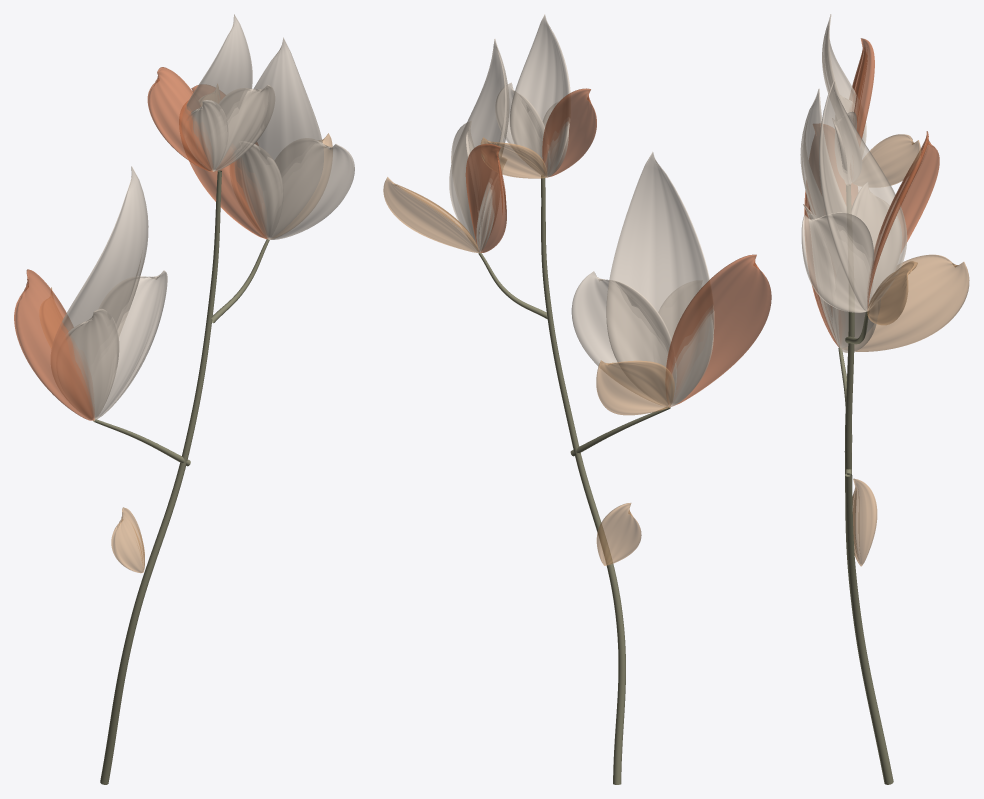
File: palash.glb
The picture shows the model from 3 angles, left to right: view 1: azimuth 30°, elevation 25°; view 2: azimuth 150°, elevation 25°; view 3: azimuth 270°, elevation 25°; orthographic projection. The views are drawn at different scales.
Parts seen in each view (by area): view 1: bloom_1_petal_0, bloom_0_petal_0, bloom_0_petal_1, bloom_1_petal_2, bloom_0_petal_2, bloom_0_petal_4, branch, bloom_2_petal_0, bloom_2_petal_1, bloom_1_petal_4, bloom_2_petal_2, bloom_1_petal_1 (+3 smaller); view 2: bloom_0_petal_0, bloom_0_petal_1, bloom_0_petal_2, bloom_2_petal_0, bloom_1_petal_0, branch, bloom_0_petal_3, bloom_1_petal_1, bloom_1_petal_3, bloom_2_petal_1, bloom_2_petal_2, bud (+4 smaller); view 3: bloom_1_petal_0, bloom_0_petal_3, bloom_1_petal_2, branch, bloom_0_petal_0, bloom_1_petal_1, bloom_2_petal_3, bloom_2_petal_0, bloom_1_petal_4, bloom_0_petal_1, bloom_1_petal_3, bloom_0_petal_2 (+4 smaller).
Part boxes in pixels (x1=…): bloom_1_petal_0: x1=233, y1=37, x2=323, y2=237; bloom_0_petal_0: x1=51, y1=166, x2=148, y2=404; bloom_0_petal_1: x1=14, y1=269, x2=94, y2=420; bloom_1_petal_2: x1=267, y1=138, x2=354, y2=239; bloom_0_petal_2: x1=93, y1=270, x2=167, y2=420; bloom_0_petal_4: x1=56, y1=308, x2=119, y2=420; branch: x1=100, y1=170, x2=221, y2=784; bloom_2_petal_0: x1=182, y1=14, x2=252, y2=157; bloom_2_petal_1: x1=147, y1=67, x2=213, y2=171; bloom_1_petal_4: x1=230, y1=141, x2=283, y2=239; bloom_2_petal_2: x1=213, y1=85, x2=274, y2=171; bloom_1_petal_1: x1=179, y1=85, x2=267, y2=239; bloom_0_petal_0: x1=606, y1=151, x2=714, y2=407; bloom_0_petal_1: x1=665, y1=254, x2=771, y2=406; bloom_0_petal_2: x1=571, y1=271, x2=676, y2=405; bloom_2_petal_0: x1=510, y1=14, x2=570, y2=177; bloom_1_petal_0: x1=449, y1=38, x2=509, y2=252; branch: x1=541, y1=175, x2=625, y2=784; bloom_0_petal_3: x1=596, y1=360, x2=674, y2=415; bloom_1_petal_1: x1=465, y1=143, x2=506, y2=252; bloom_1_petal_3: x1=383, y1=177, x2=479, y2=252; bloom_2_petal_1: x1=542, y1=88, x2=596, y2=177; bloom_2_petal_2: x1=495, y1=82, x2=549, y2=174; bud: x1=596, y1=503, x2=641, y2=565; bloom_1_petal_0: x1=819, y1=80, x2=907, y2=311; bloom_0_petal_3: x1=843, y1=254, x2=969, y2=351; bloom_1_petal_2: x1=801, y1=212, x2=874, y2=312; branch: x1=844, y1=185, x2=893, y2=784; bloom_0_petal_0: x1=800, y1=88, x2=880, y2=347; bloom_1_petal_1: x1=867, y1=131, x2=939, y2=307; bloom_2_petal_3: x1=853, y1=134, x2=921, y2=186; bloom_2_petal_0: x1=822, y1=14, x2=866, y2=181; bloom_1_petal_4: x1=850, y1=183, x2=901, y2=295; bloom_0_petal_1: x1=804, y1=124, x2=857, y2=347; bloom_1_petal_3: x1=867, y1=261, x2=917, y2=325; bloom_0_petal_2: x1=832, y1=272, x2=877, y2=352.
Size of the model in its own units: 2.78 by 5.59 by 1.04.
